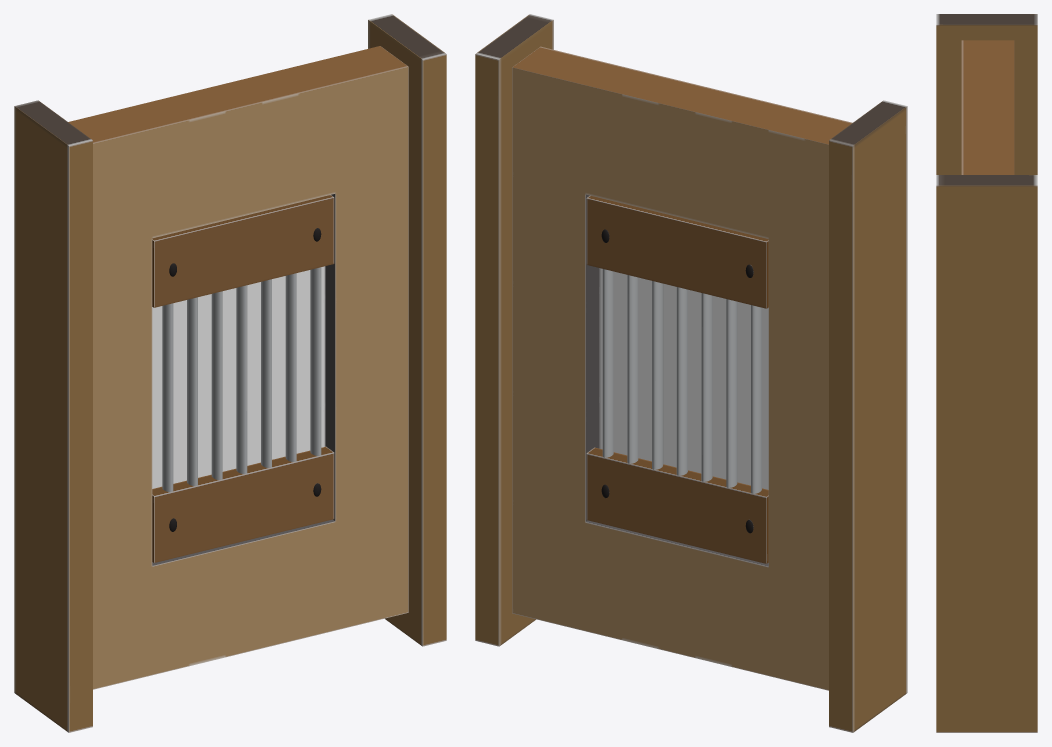
Rendered from Door01.fbx.
3 renders of one model, left to right at view 1: azimuth 30°, elevation 25°; view 2: azimuth 150°, elevation 25°; view 3: azimuth 270°, elevation 25°, orthographic. The views are drawn at different scales.
Parts seen in each view (by area): view 1: Door04; view 2: Door04; view 3: Door04.
Boxes of the visible parts, x1,y1,x2,y2 form: Door04: [14, 14, 446, 732]; Door04: [475, 14, 907, 732]; Door04: [936, 14, 1037, 732].
Bounding box in the file's own units: 224 × 332 × 55.97.
Materials: 1 (1 with a texture image).
